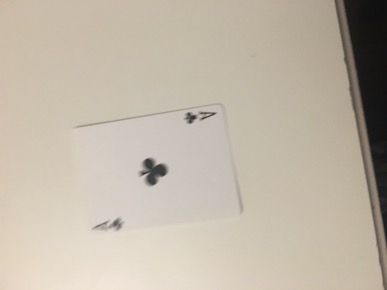AceOfClubs: (67, 101, 248, 235)
